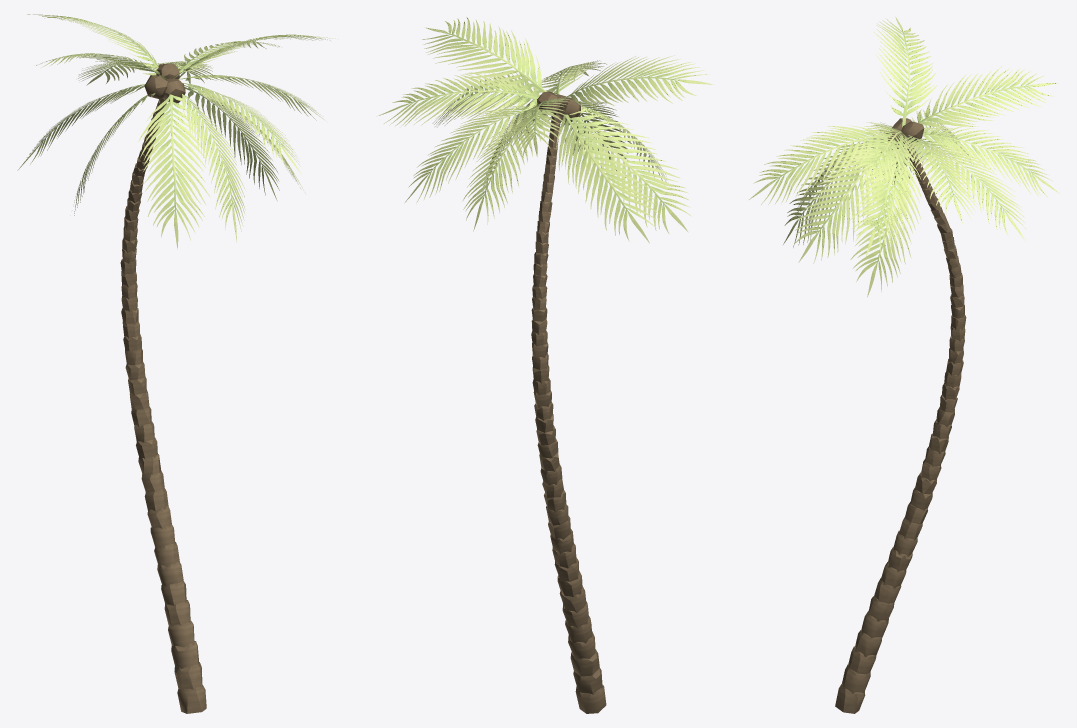
The model's file is coconut tree2.fbx.
3 views of the same model, side by side, from view 1: azimuth 30°, elevation 25°; view 2: azimuth 150°, elevation 25°; view 3: azimuth 270°, elevation 25° (orthographic). The views are drawn at different scales.
Visible parts, largest first — view 1: leaf.055, trunk.002, fruit.001; view 2: leaf.055, trunk.002, fruit.001; view 3: leaf.055, trunk.002, fruit.001.
Boxes of the visible parts, x1,y1,x2,y2 form: leaf.055: [17, 14, 335, 249]; trunk.002: [120, 97, 206, 713]; fruit.001: [144, 63, 185, 103]; leaf.055: [378, 17, 713, 243]; trunk.002: [531, 113, 606, 713]; fruit.001: [537, 91, 580, 121]; leaf.055: [749, 17, 1059, 297]; trunk.002: [835, 143, 966, 713]; fruit.001: [886, 118, 924, 149].
Bounding box in the file's own units: 713 × 1498 × 675.
